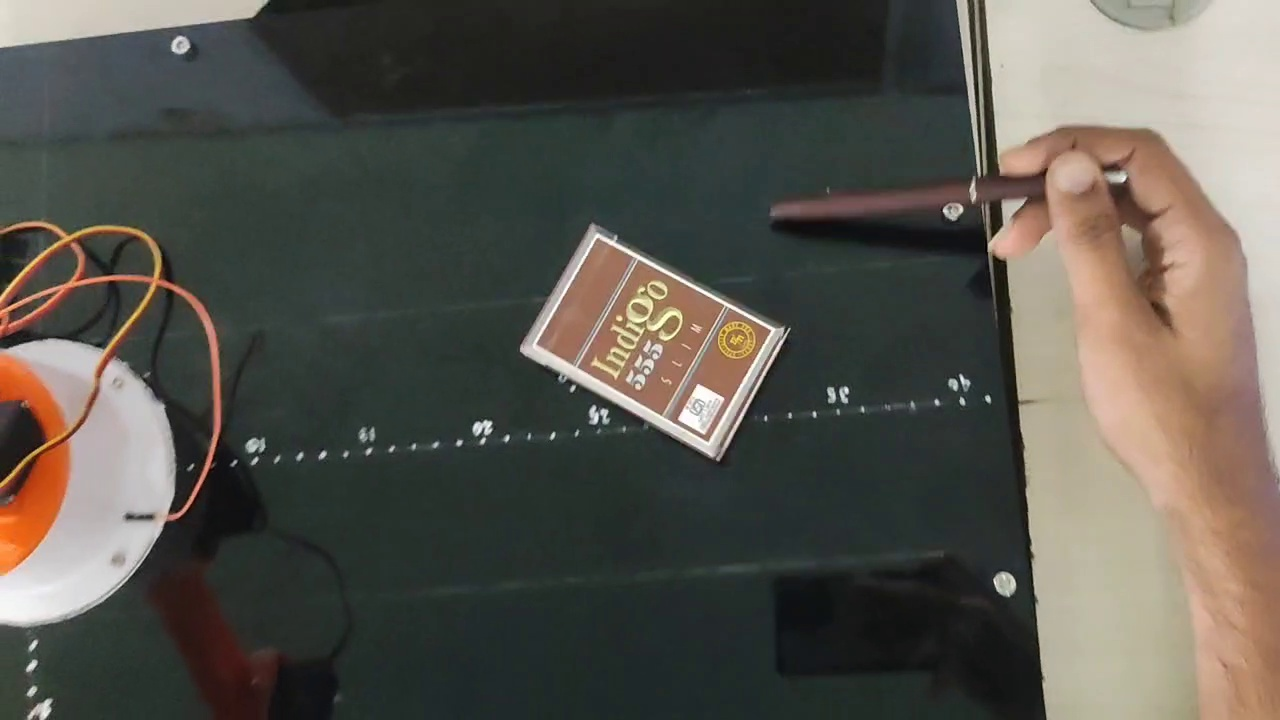BEX: (531, 236, 779, 444)
